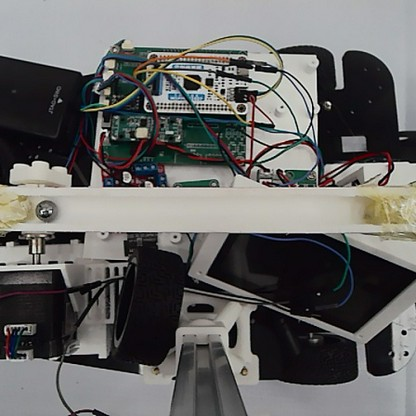ironball: (34, 197, 60, 224)
